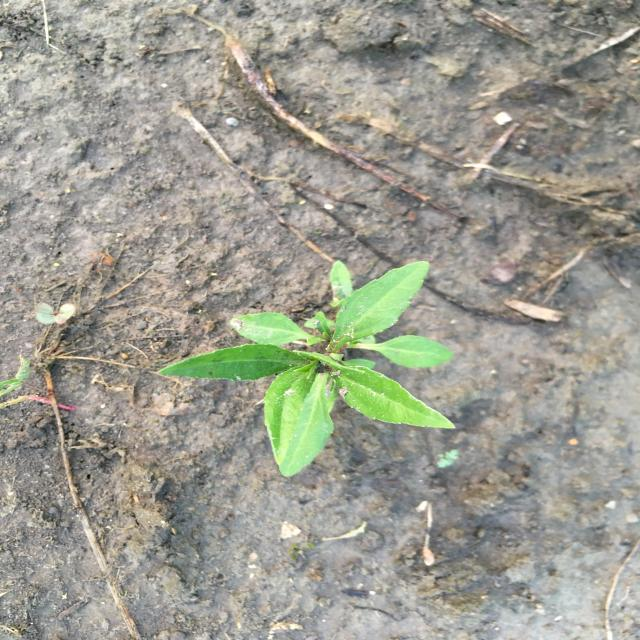Eclipta: (154, 258, 460, 478)
